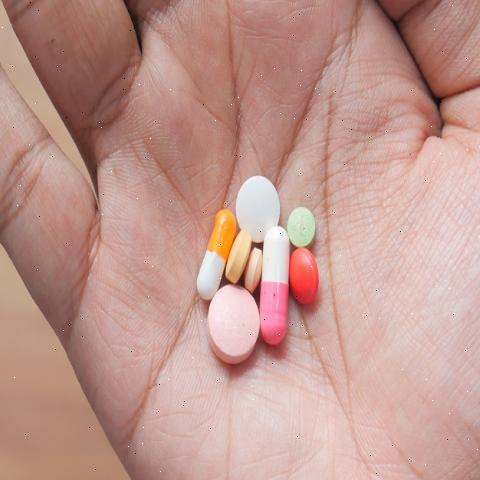Pill: (222, 156, 286, 248), (202, 287, 262, 375)
